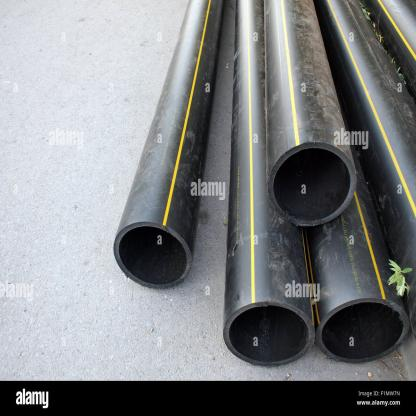PVC: (223, 0, 416, 368), (113, 2, 225, 289)
